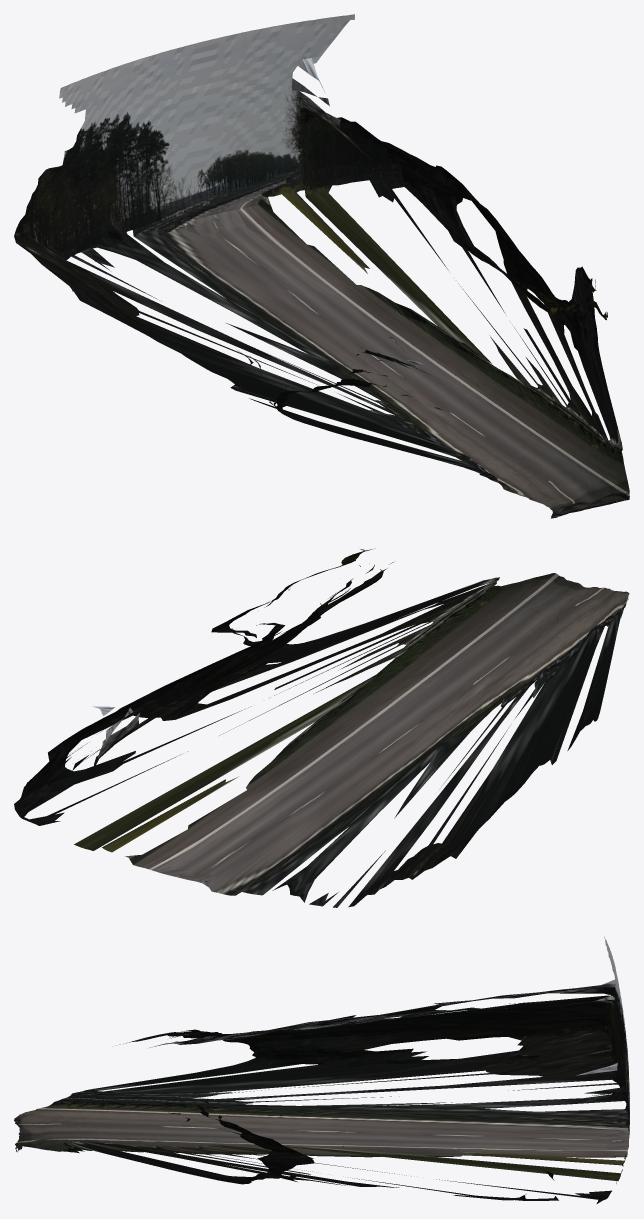
3 views of the same model, one above another, from view 1: azimuth 30°, elevation 25°; view 2: azimuth 150°, elevation 25°; view 3: azimuth 270°, elevation 25° (orthographic). The views are drawn at different scales.
Parts seen in each view (by area): view 1: defaultobject; view 2: defaultobject; view 3: defaultobject.
Boxes of the visible parts, x1,y1,x2,y2 form: defaultobject: (14, 14, 629, 518); defaultobject: (14, 548, 629, 907); defaultobject: (14, 936, 629, 1203).
Size of the model in its own units: 25.55 by 11.81 by 44.36.
1 material, 1 textured.
